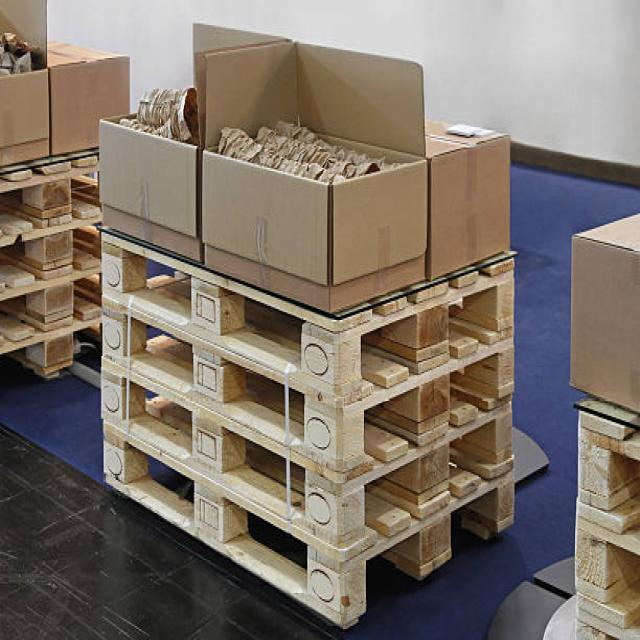Wooden-Pallets: (94, 419, 521, 637), (95, 361, 522, 545), (95, 299, 519, 473), (92, 230, 517, 402)
